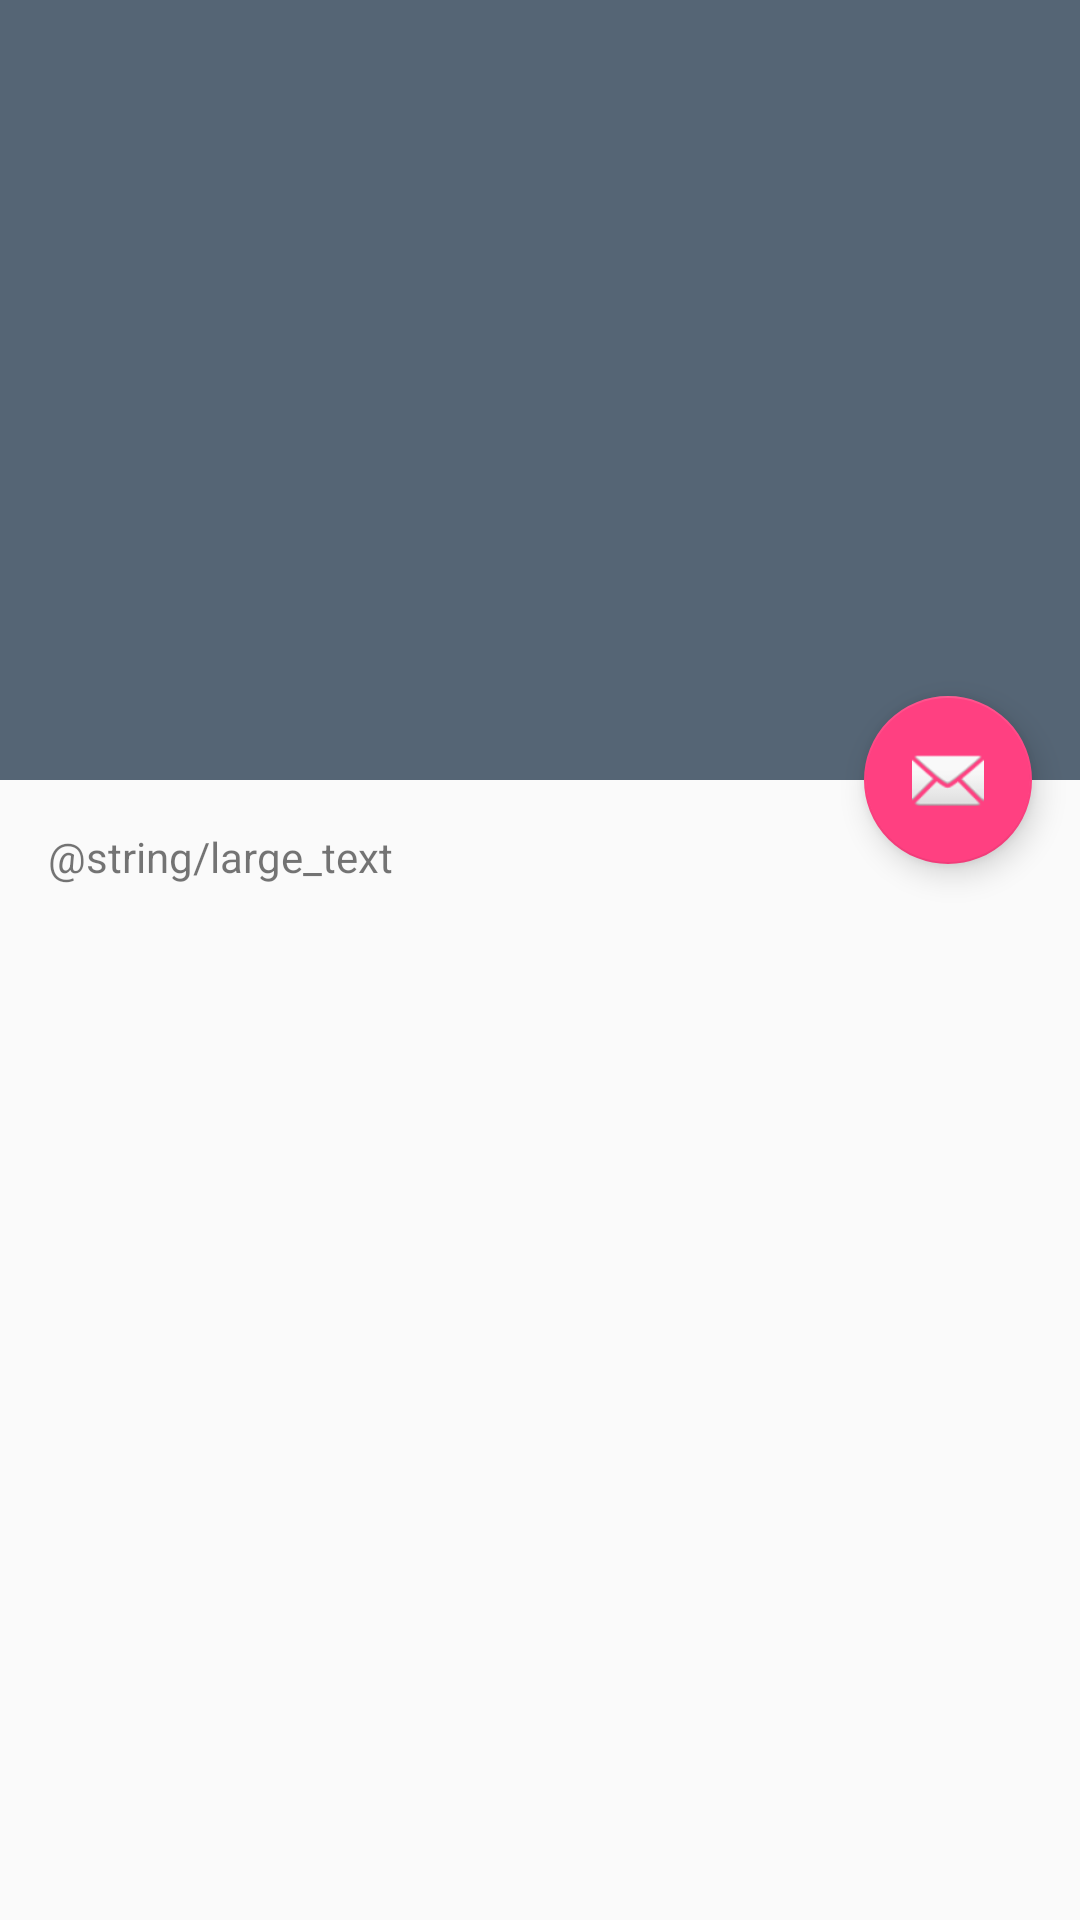

Named icons in this screenshot (1080w x 1920h) and their centers, point (x, y):
email: point (948, 780)
